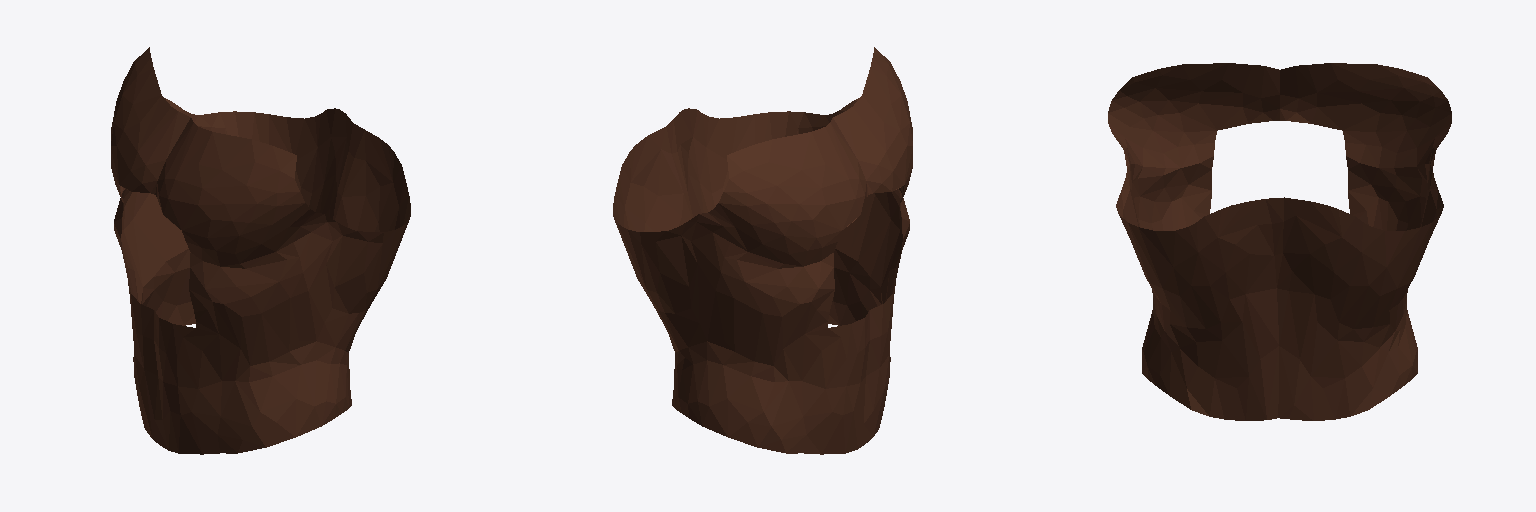
Rendered from body_cut.obj.
3 views of the same model, side by side, from view 1: azimuth 30°, elevation 25°; view 2: azimuth 150°, elevation 25°; view 3: azimuth 270°, elevation 25° (orthographic).
Parts seen in each view (by area): view 1: Male_Body_HighPoly.001; view 2: Male_Body_HighPoly.001; view 3: Male_Body_HighPoly.001.
Part boxes in pixels (x1,y1,x2,y2): Male_Body_HighPoly.001: (111, 47, 410, 454); Male_Body_HighPoly.001: (613, 47, 912, 454); Male_Body_HighPoly.001: (1108, 63, 1451, 420).
Size of the model in its own units: 36.9 by 53.82 by 50.74.